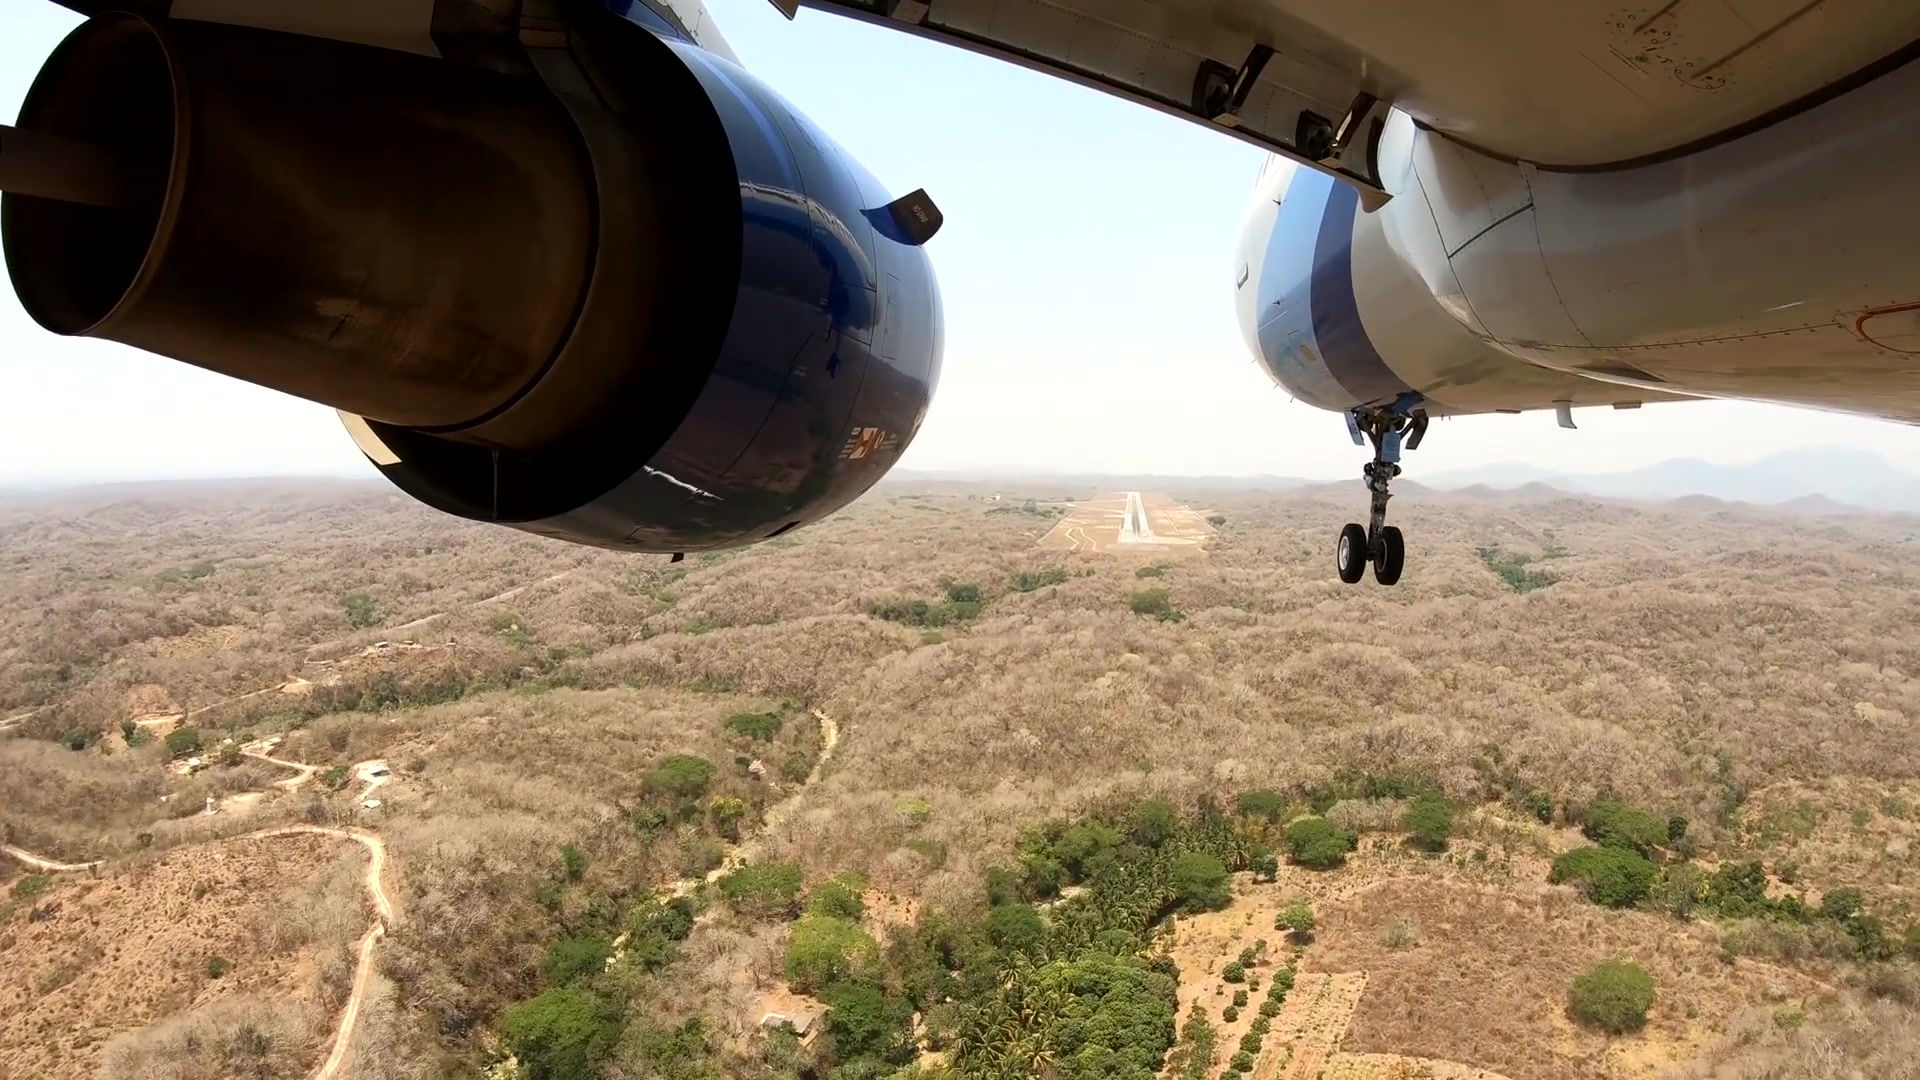runway: (1120, 491, 1154, 543)
